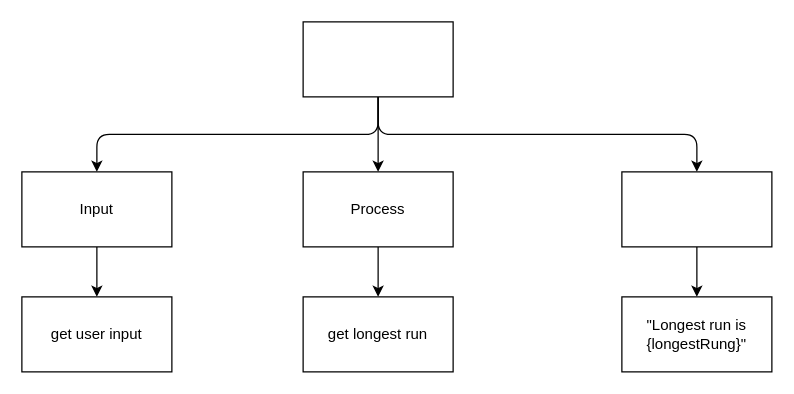
The diagram is 794 pixels wide and 394 high, and some of its shapes have lost their labels. Each missing label, with the box of its shape:
Find longest run: (302, 21, 453, 97)
Output: (621, 171, 772, 247)
